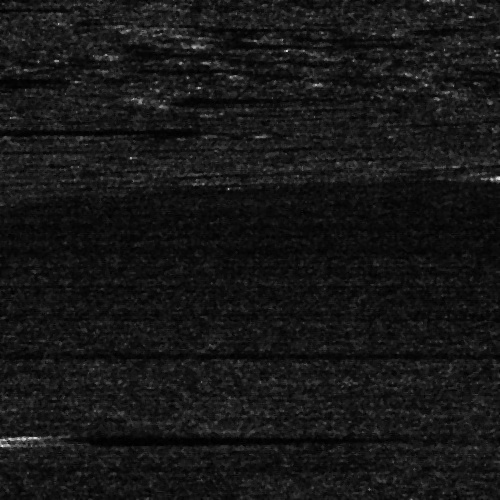object: (0, 430, 63, 443), (458, 169, 500, 180)
shadow: (6, 430, 326, 443)
